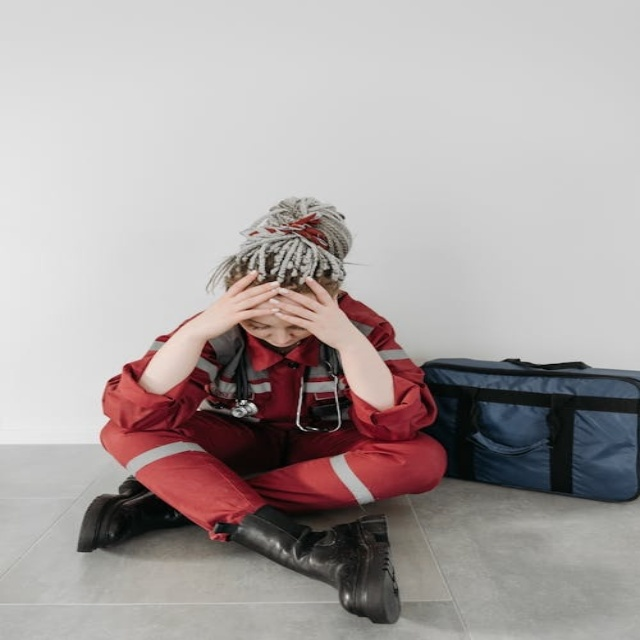Sin_gafas: (242, 318, 303, 337)
Sin_guantes: (275, 267, 369, 349), (179, 270, 275, 341)
Sin_mascara: (253, 330, 304, 349)
